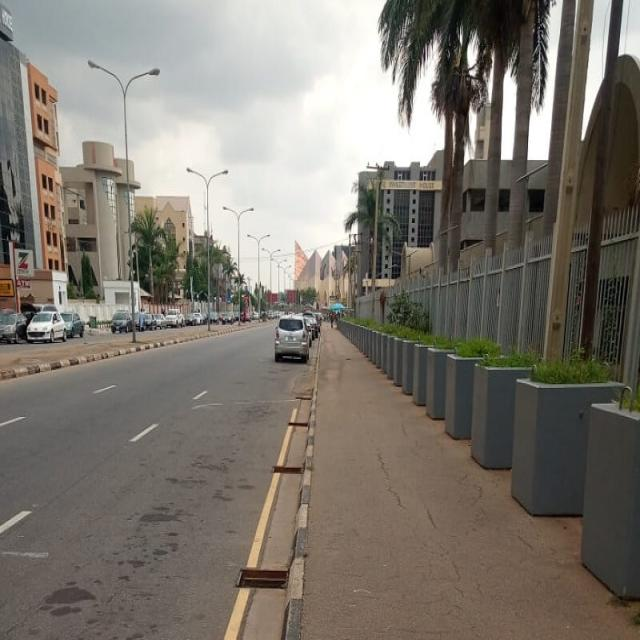Car: (275, 315, 311, 362), (26, 310, 65, 342)
Electric pole: (88, 58, 159, 342), (545, 0, 595, 361), (188, 166, 229, 330), (224, 205, 254, 316)
